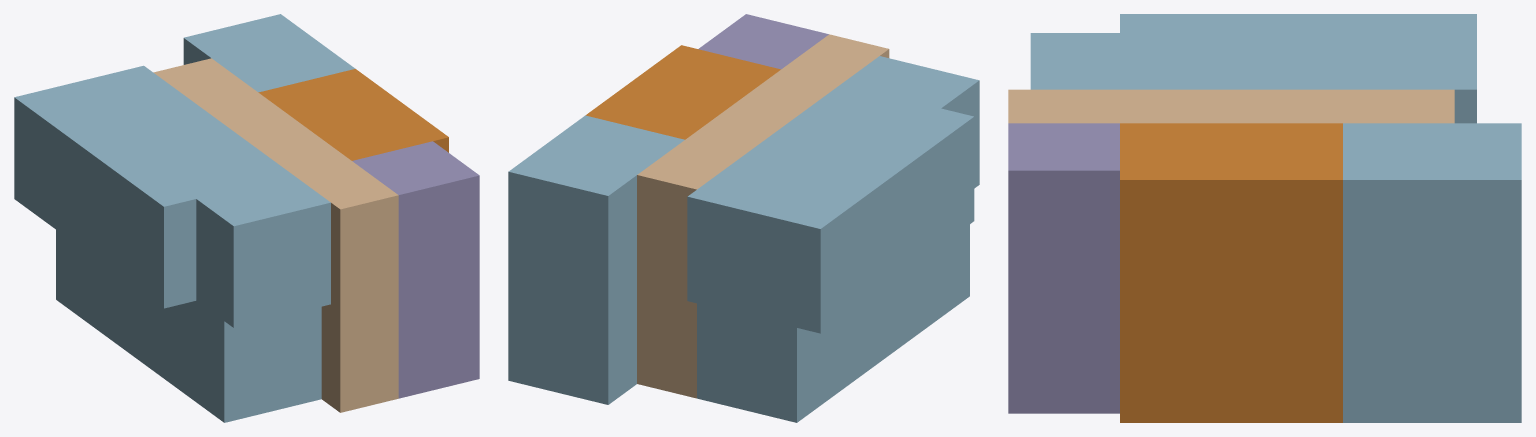
The model's file is option.glb.
3 views of the same model, side by side, from view 1: azimuth 30°, elevation 25°; view 2: azimuth 150°, elevation 25°; view 3: azimuth 270°, elevation 25° (orthographic). The views are drawn at different scales.
Parts seen in each view (by area): view 1: cell_10, cell_3, cell_7, cell_9, cell_4, cell_11, cell_2, cell_0, cell_8, cell_6, cell_5; view 2: cell_11, cell_10, cell_8, cell_7, cell_6, cell_1, cell_2, cell_0, cell_9, cell_4, cell_3, cell_5; view 3: cell_2, cell_3, cell_8, cell_1, cell_10, cell_7, cell_11, cell_9.
Boxes of the visible parts, x1,y1,x2,y2 form: cell_10: (70, 107, 293, 308); cell_3: (352, 141, 479, 398); cell_7: (153, 58, 398, 310); cell_9: (196, 175, 330, 327); cell_4: (168, 300, 321, 422); cell_11: (14, 65, 199, 239); cell_2: (258, 69, 448, 160); cell_0: (321, 297, 398, 412); cell_8: (183, 14, 355, 92); cell_6: (56, 230, 130, 354); cell_5: (131, 285, 168, 381); cell_11: (687, 154, 878, 333); cell_10: (745, 84, 974, 290); cell_8: (508, 115, 684, 300); cell_7: (637, 34, 889, 291); cell_6: (697, 295, 873, 422); cell_1: (508, 276, 636, 404); cell_2: (585, 45, 780, 139); cell_0: (637, 279, 696, 398); cell_9: (842, 56, 979, 188); cell_4: (912, 224, 969, 338); cell_3: (698, 14, 828, 69); cell_5: (873, 267, 912, 366); cell_2: (1120, 123, 1342, 422); cell_3: (1008, 123, 1119, 413); cell_8: (1343, 123, 1521, 301); cell_1: (1343, 301, 1521, 422); cell_10: (1120, 14, 1342, 89); cell_7: (1008, 89, 1454, 123); cell_11: (1343, 14, 1476, 123); cell_9: (1030, 33, 1119, 89).
Size of the model in its own units: 8.8 by 6 by 11.5.
